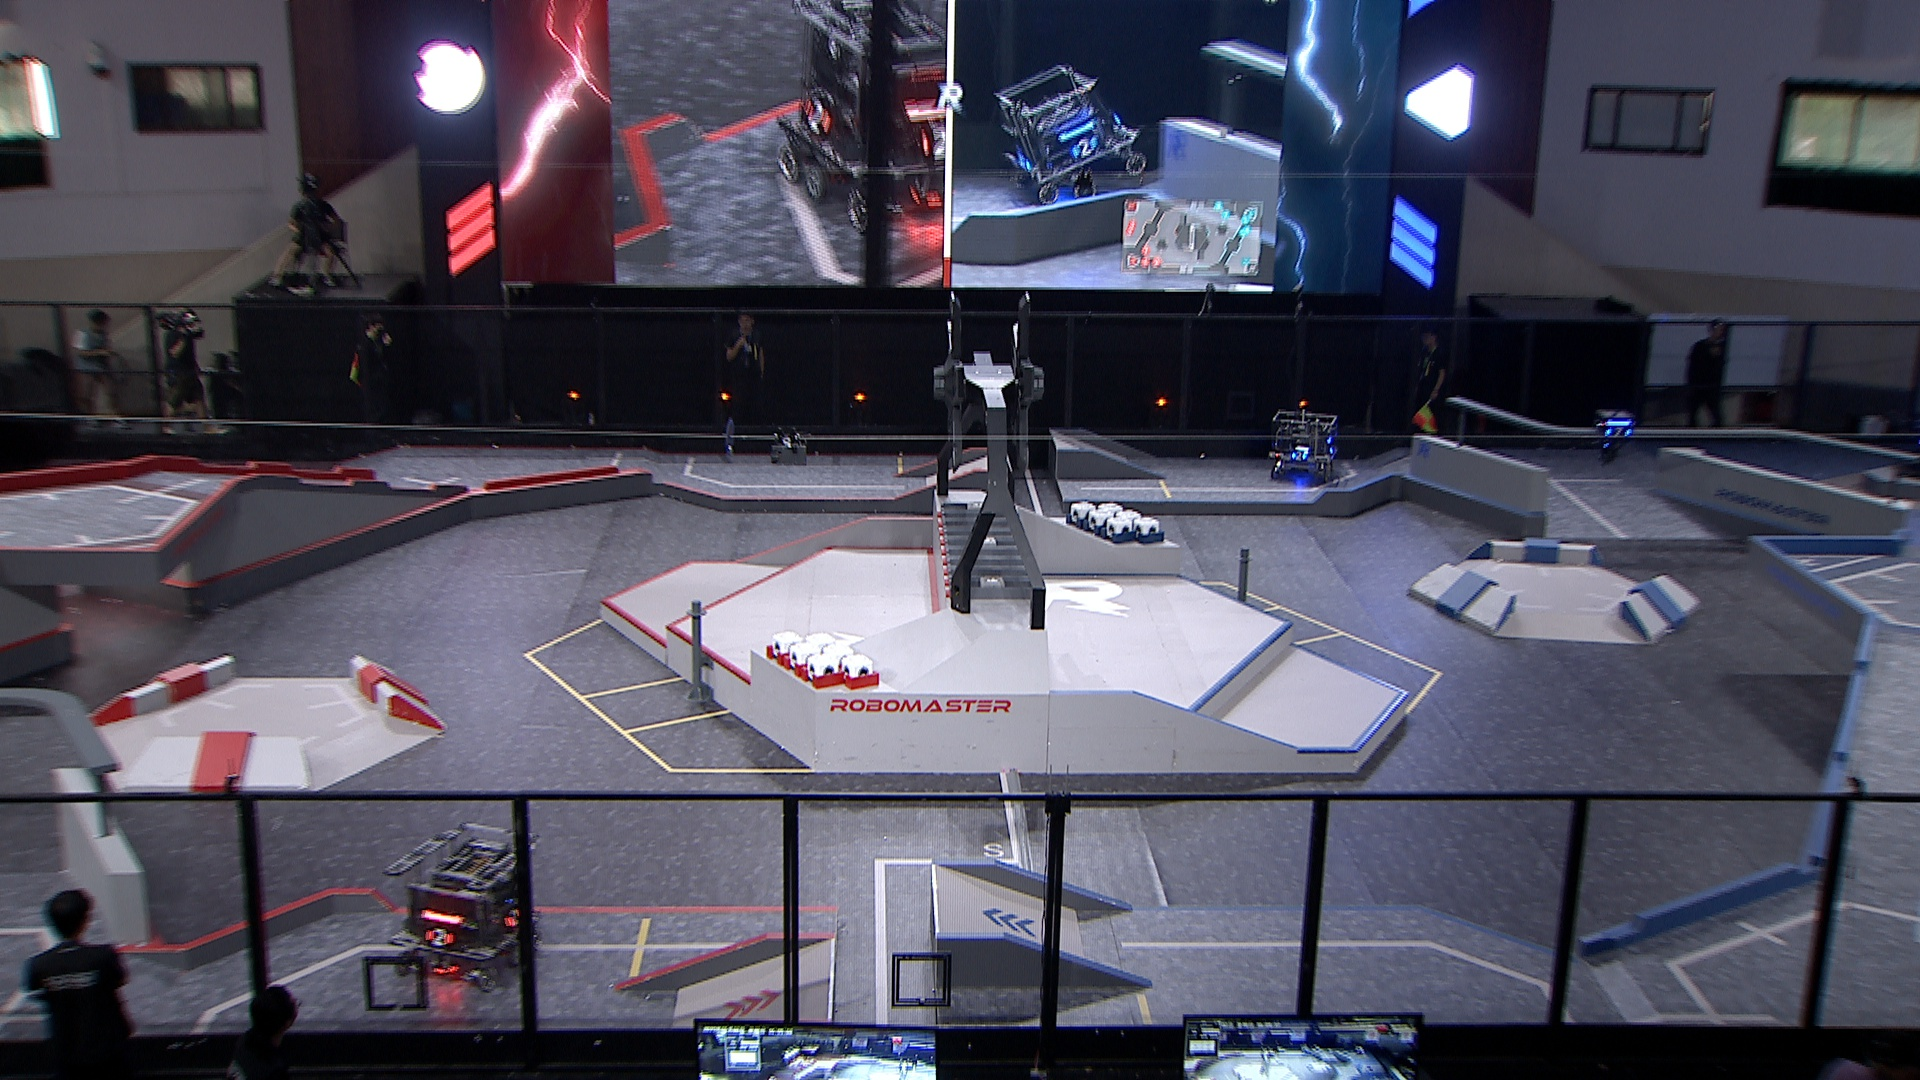armor: (423, 928, 452, 945), (1604, 425, 1631, 438), (506, 902, 520, 926), (1288, 451, 1309, 462)
car: (384, 820, 542, 984), (1263, 404, 1346, 487)
ignore: (994, 63, 1141, 204)
watcher: (1590, 405, 1642, 469)
